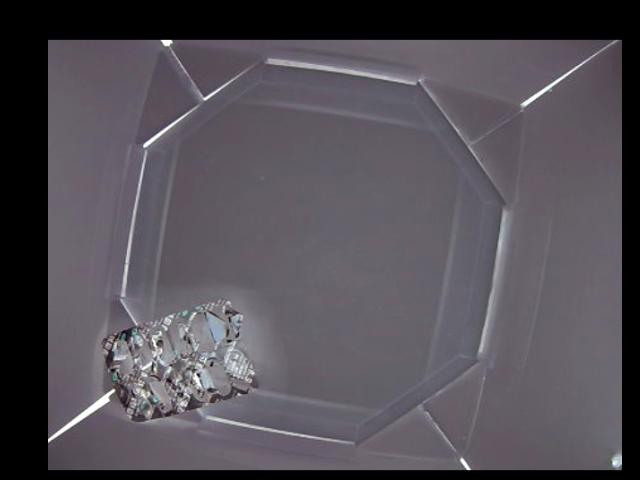Medicine: (102, 298, 256, 422)
